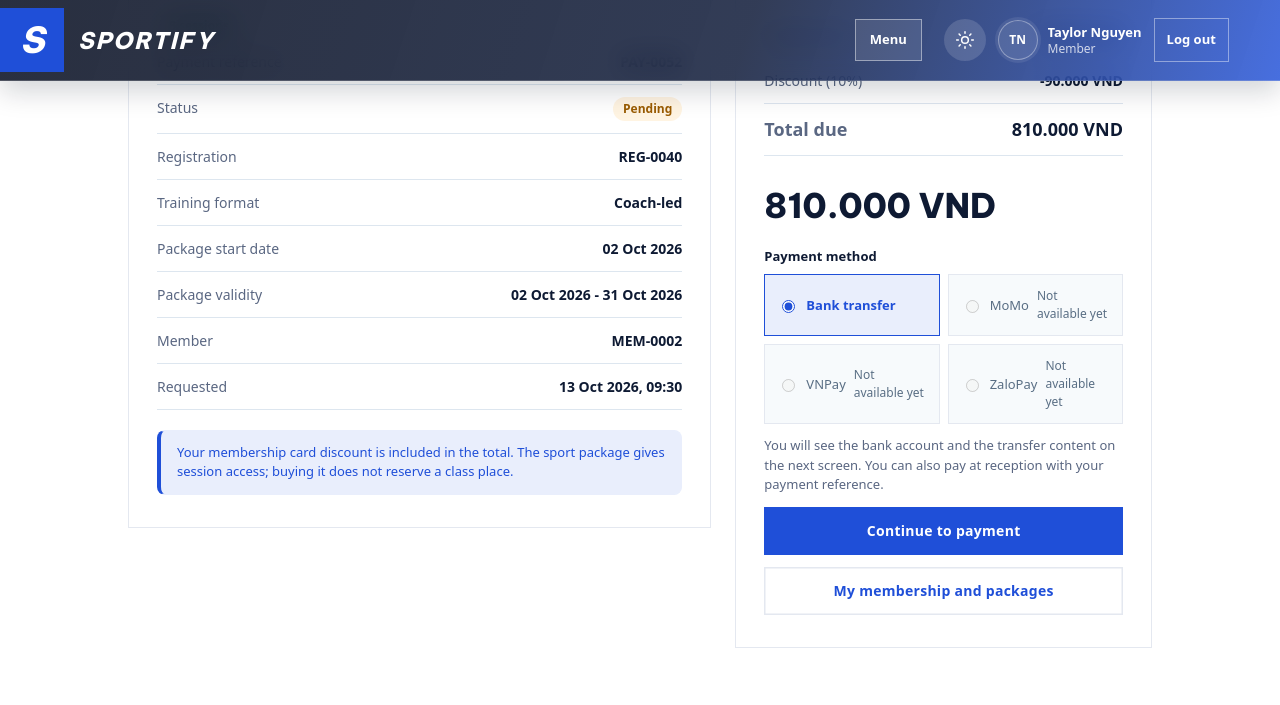
Test: FE-11 Payment Summary (F3-01, S3-Single) › TC-FE11-004 Continue with the same method sends no PUT and opens the status screen
This screenshot has width=1280, height=705.
(page scrolled)
Expected: the radio button labelled "Bank transfer" is checked, [782, 300, 795, 313]
Step 1. Click the button "Continue to payment" → (944, 531), box [764, 507, 1123, 555]
(page scrolled)
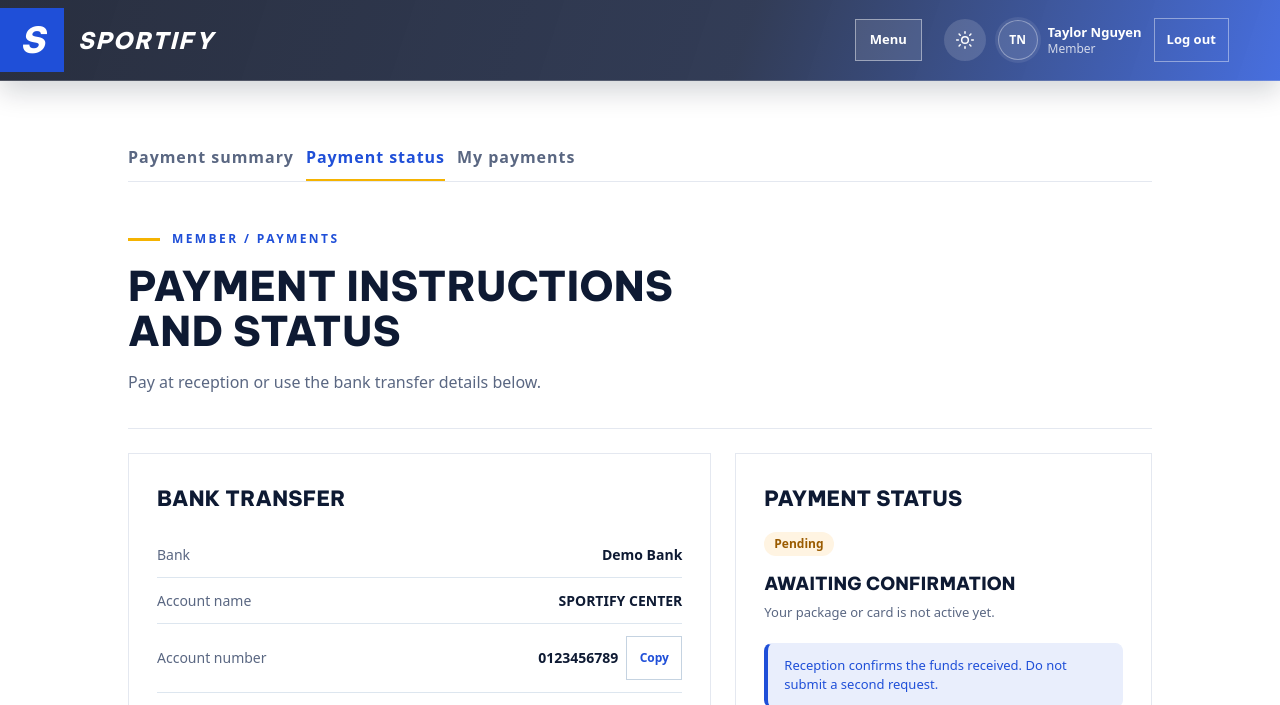
Result: the heading "Payment Instructions and Status" is shown at [128, 260, 673, 357]
